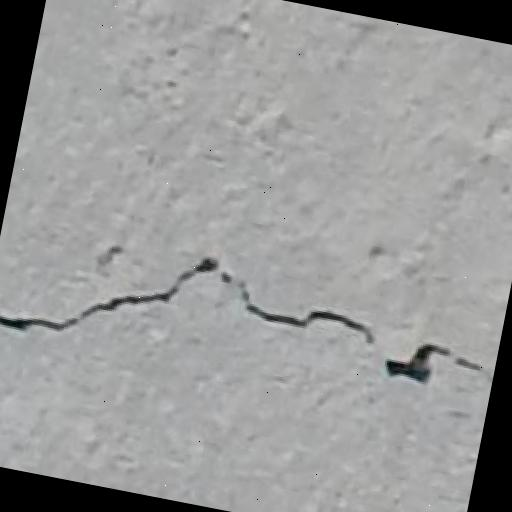spalling: (0, 239, 493, 407)
